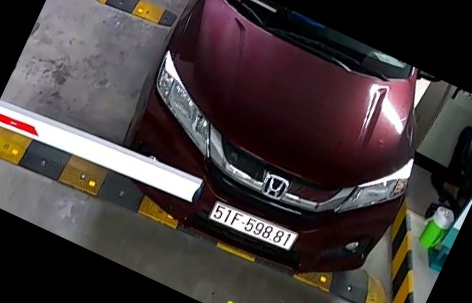plate: (212, 198, 299, 261)
